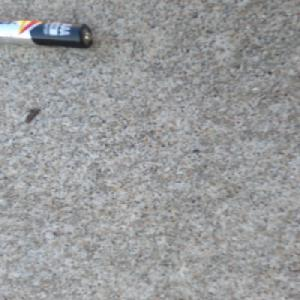Battery: (0, 16, 97, 49)
